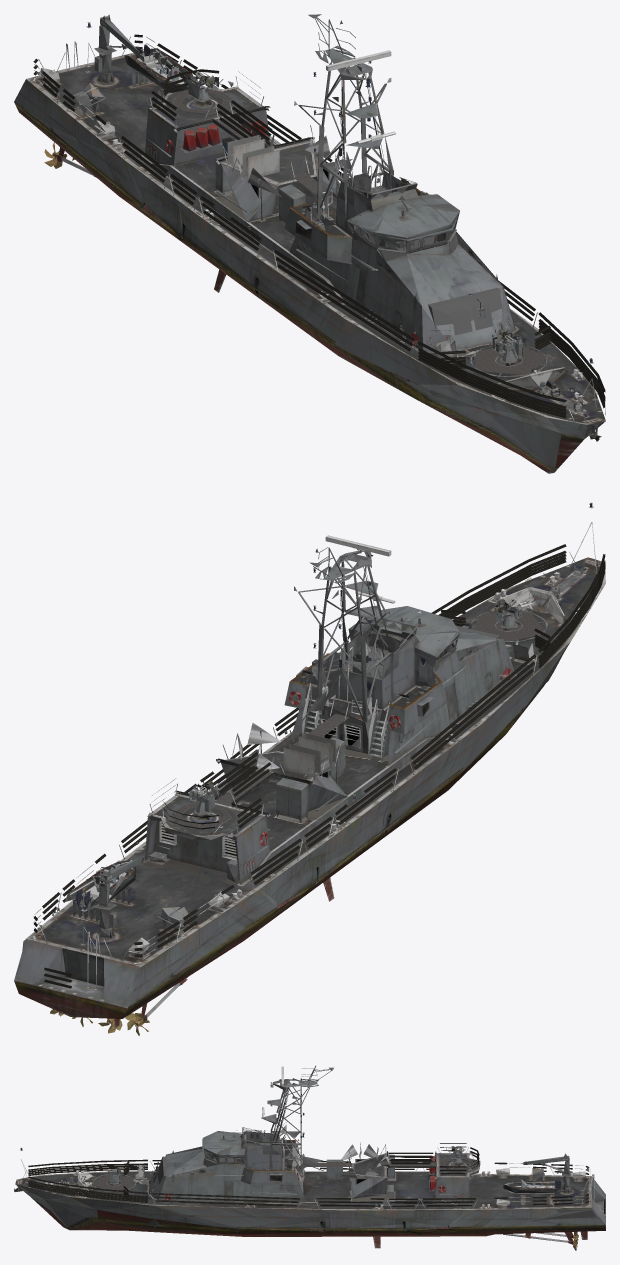
File: navy_patrol.glb
3 renders of one model, top to bottom at view 1: azimuth 30°, elevation 25°; view 2: azimuth 150°, elevation 25°; view 3: azimuth 270°, elevation 25°, orthographic. The views are drawn at different scales.
Parts seen in each view (by area): view 1: navy_patrol; view 2: navy_patrol; view 3: navy_patrol.
Boxes of the visible parts, x1,y1,x2,y2 form: navy_patrol: [14, 14, 605, 473]; navy_patrol: [14, 502, 605, 1035]; navy_patrol: [14, 1065, 605, 1250].
Bounding box in the file's own units: 8.34 × 17.97 × 54.97.
Materials: 16 (16 with a texture image).
